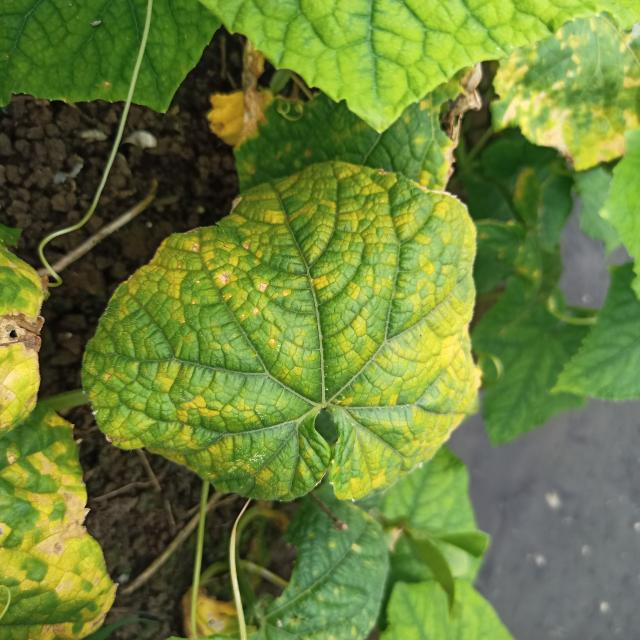disease_cucumber: (102, 163, 485, 498)
